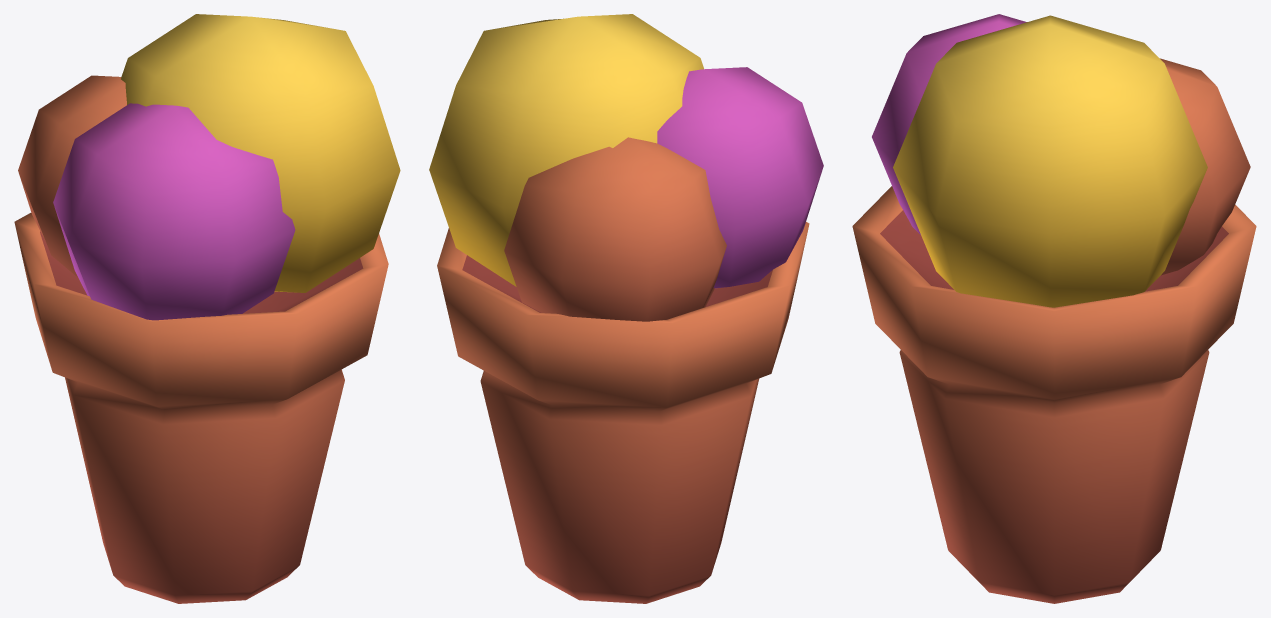
The model's file is IceCream02Var1.fbx.
The picture shows the model from 3 angles, left to right: view 1: azimuth 30°, elevation 25°; view 2: azimuth 150°, elevation 25°; view 3: azimuth 270°, elevation 25°; orthographic projection. The views are drawn at different scales.
Visible parts, largest first — view 1: IceCreamVar2a; view 2: IceCreamVar2a; view 3: IceCreamVar2a.
Boxes of the visible parts, x1,y1,x2,y2 form: IceCreamVar2a: (14, 14, 400, 603); IceCreamVar2a: (429, 14, 823, 603); IceCreamVar2a: (852, 14, 1256, 603).
Size of the model in its own units: 0.1182 by 0.1147 by 0.1767.
